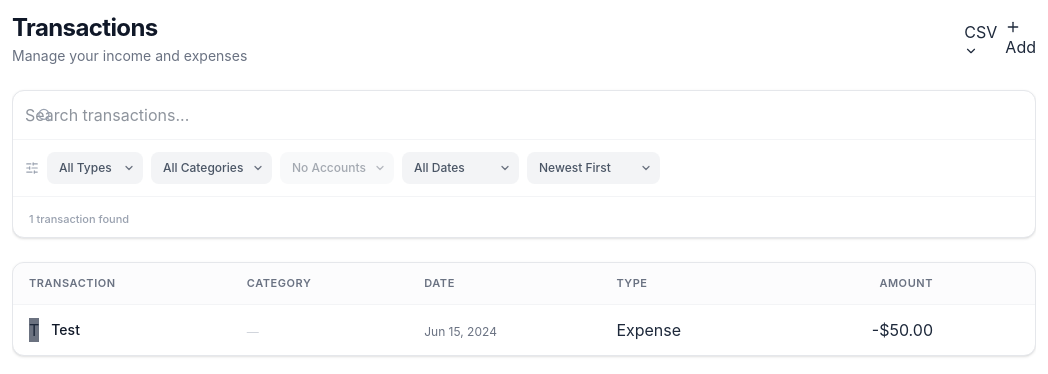
TransactionsPage › shows CSV menu when CSV button clicked
Click the button "CSV".
click(981, 39)  # box [964,20,997,58]
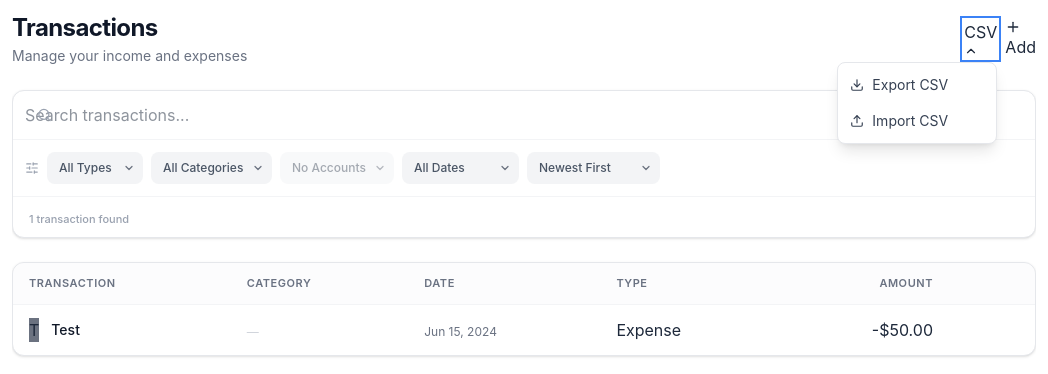
Now the button "Export CSV" is shown, box [838,67,996,103]
Now the button "Import CSV" is shown, box [838,103,996,139]
